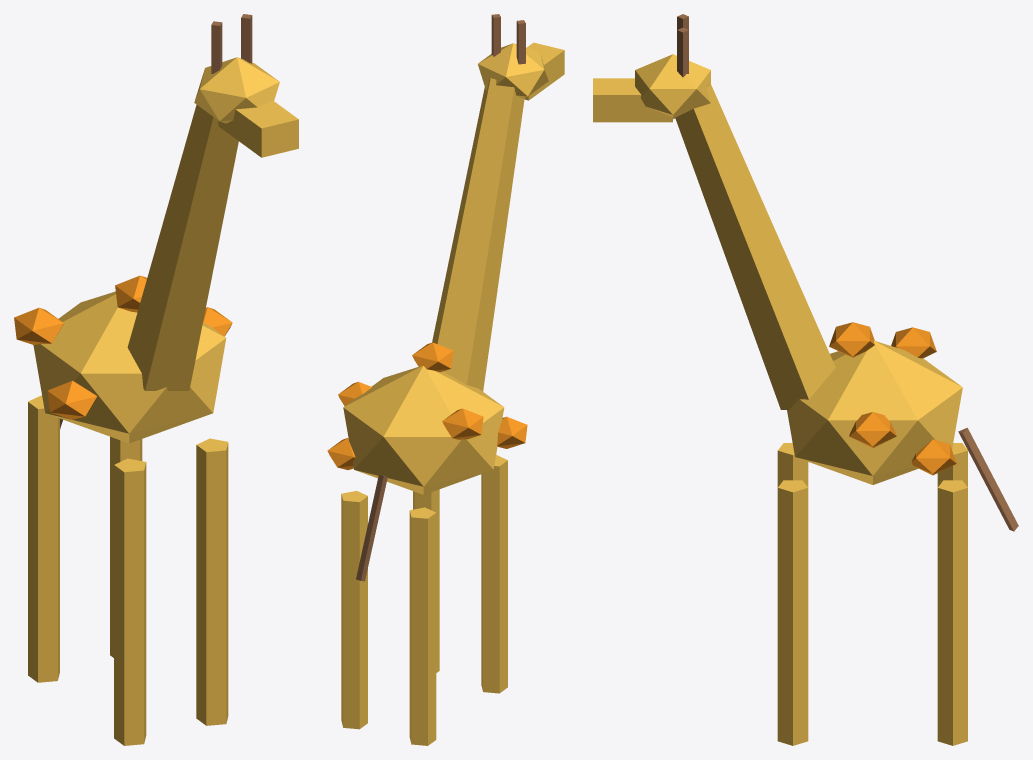
Rendered from animal_giraffe.glb.
The picture shows the model from 3 angles, left to right: view 1: azimuth 30°, elevation 25°; view 2: azimuth 150°, elevation 25°; view 3: azimuth 270°, elevation 25°; orthographic projection. The views are drawn at different scales.
Visible parts, largest first — view 1: animal_giraffe; view 2: animal_giraffe; view 3: animal_giraffe.
Boxes of the visible parts, x1,y1,x2,y2 form: animal_giraffe: (14, 14, 298, 745); animal_giraffe: (327, 14, 564, 745); animal_giraffe: (593, 14, 1018, 745).
Bounding box in the file's own units: 0.108 × 0.385 × 0.213.
